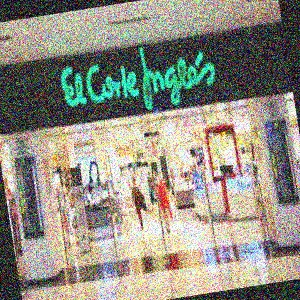corte_ingles: (194, 18, 250, 54)
